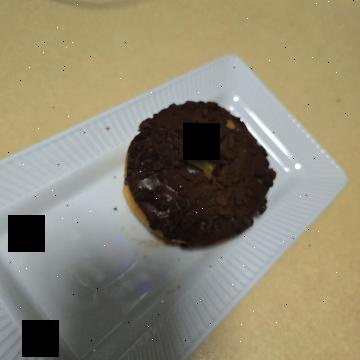doughnut: (87, 80, 266, 252)
